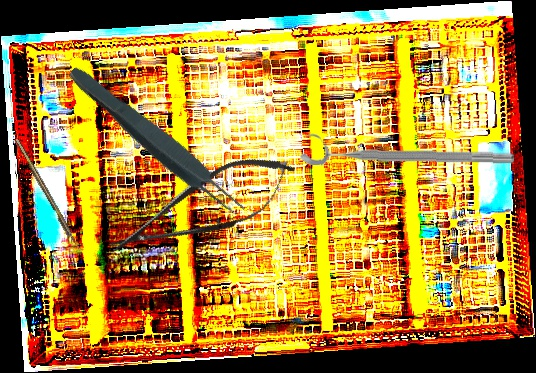Fixation Ring: (299, 132, 515, 169)
Hook Surgical: (14, 137, 82, 254)
Micro Scissor: (97, 139, 307, 277)
Tissue Forceps: (62, 59, 251, 225)
